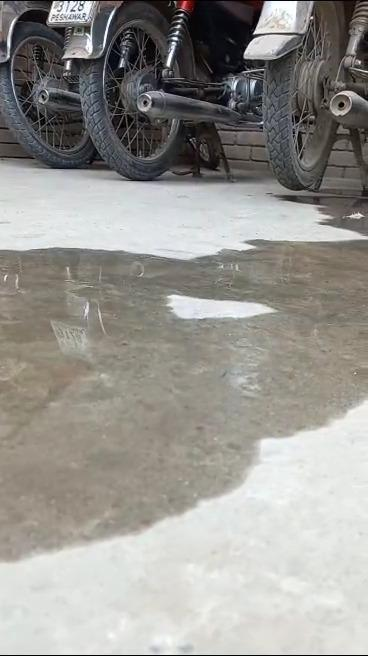water accumulation: (0, 238, 368, 566), (279, 188, 368, 236)
